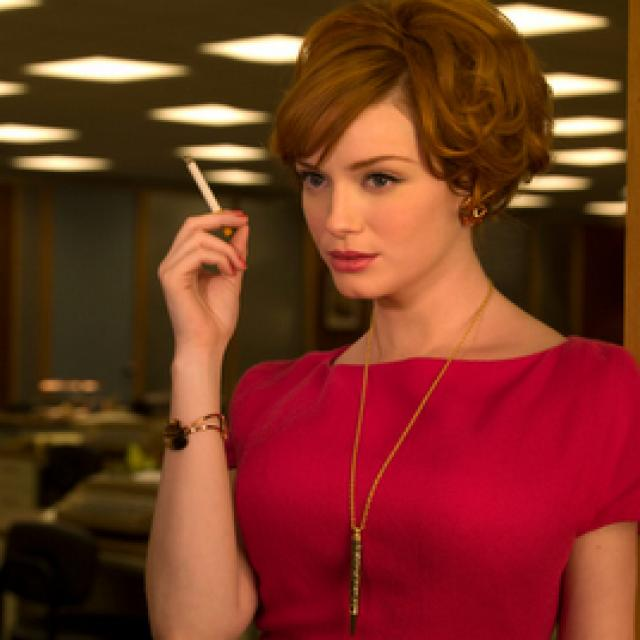cigarette: (166, 130, 249, 247)
